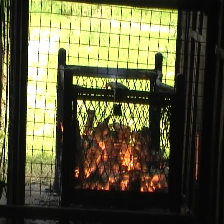fire_h: (81, 125, 141, 190)
fire_l: (142, 173, 167, 192), (195, 136, 199, 179), (74, 166, 79, 178), (60, 124, 63, 131)
